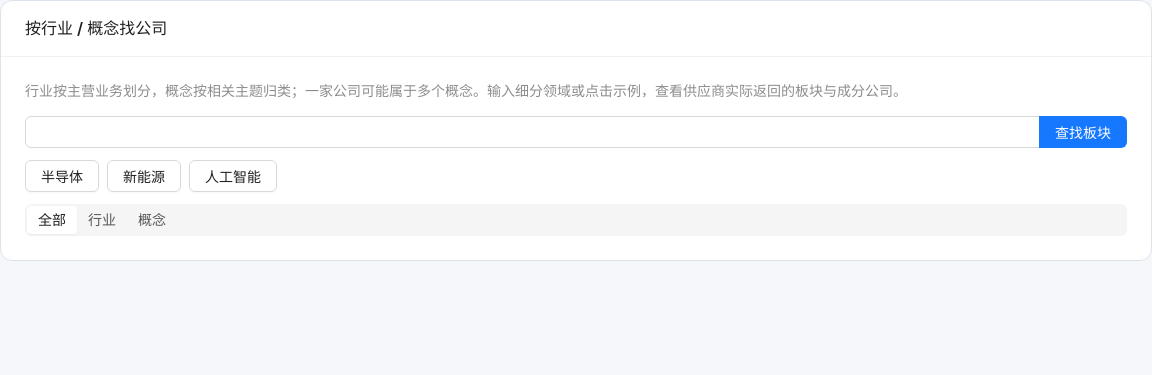
it: DiscoverThemes：板块检索状态按关键词作用域（VS-39） › 板块读取失败 ⇒ 显示失败与底层原文，重试真的重发同一关键词（计数 1→2）
Step 1. Click the button "半导体" → {"x": 62, "y": 176}, box [25,160,99,192]
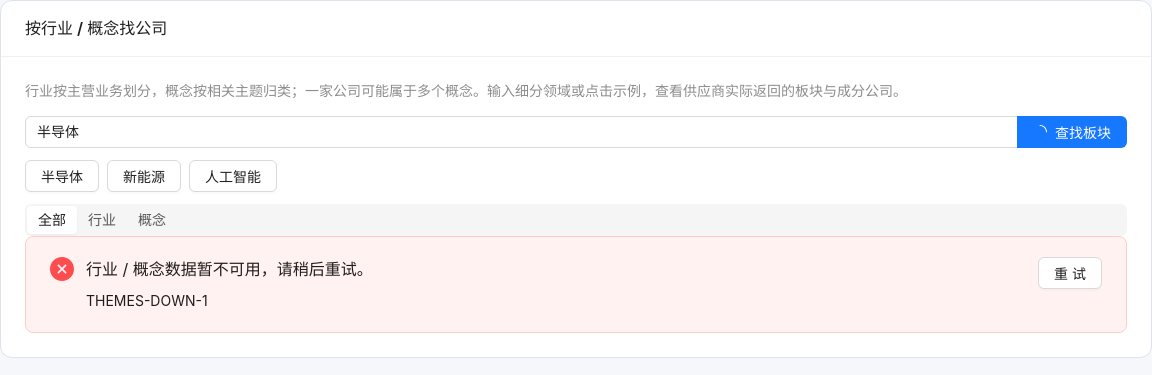
Check: the text "行业 / 概念数据暂不可用，请稍后重试。" is shown, box [86,259,373,279]
Check: the text "THEMES-DOWN-1" is shown, box [86,292,208,309]
Step 2. Click the button "重 试" → {"x": 1070, "y": 273}, box [1038,257,1102,289]
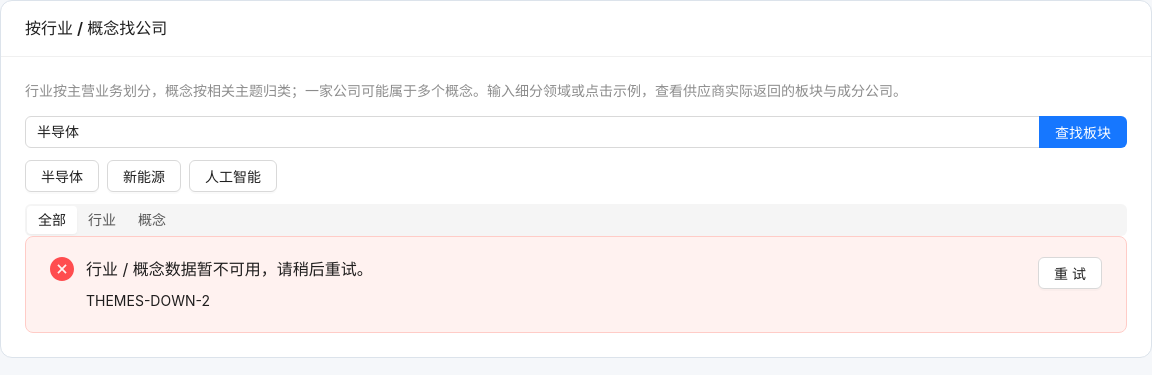
Check: the text "半导体" is shown, box [41,166,83,186]
Check: the text "THEMES-DOWN-2" is shown, box [86,292,210,309]
